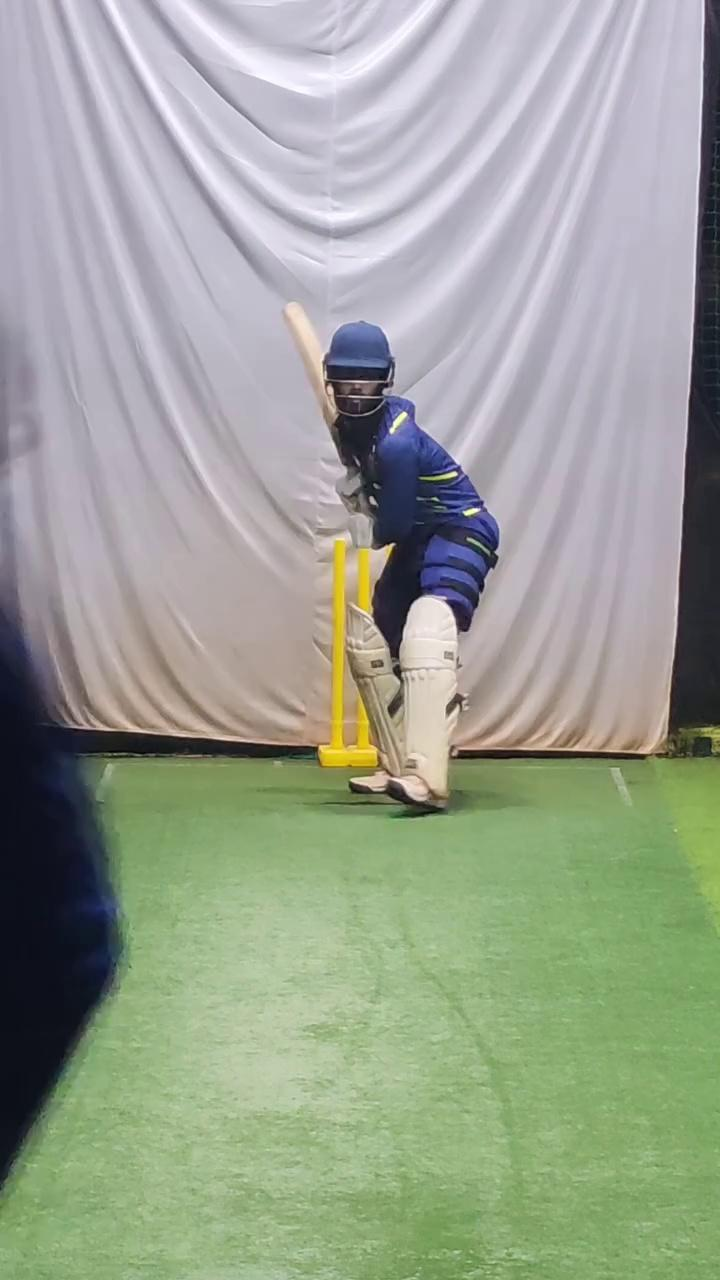bat: (280, 298, 357, 471)
